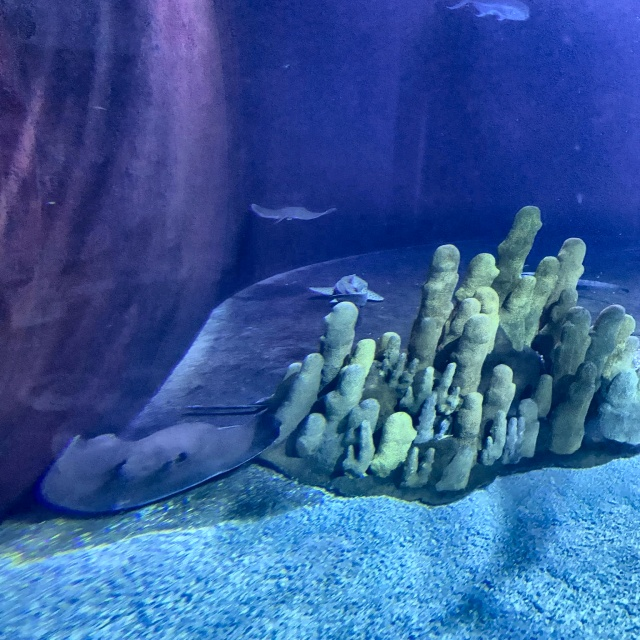fish: (446, 0, 530, 21)
shark: (309, 273, 384, 307)
stingray: (39, 412, 282, 512), (251, 203, 336, 220)
